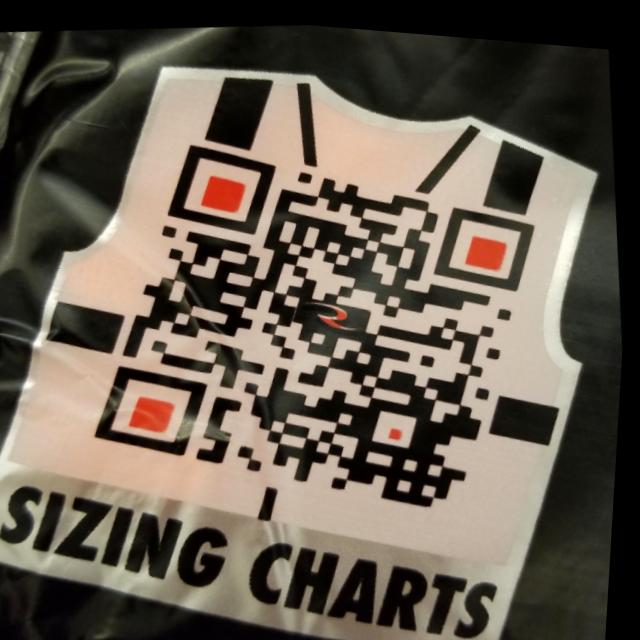QR_CODE: (52, 84, 585, 562)
